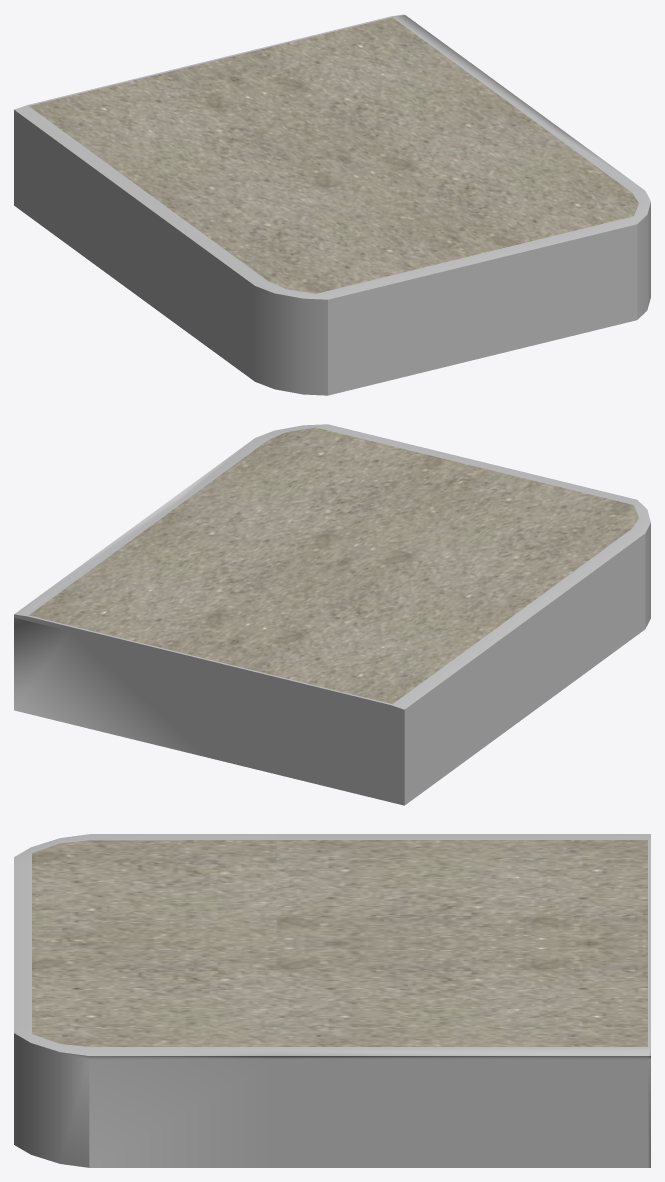
File: road_02_end.fbx
3 renders of one model, top to bottom at view 1: azimuth 30°, elevation 25°; view 2: azimuth 150°, elevation 25°; view 3: azimuth 270°, elevation 25°, orthographic. The views are drawn at different scales.
Parts seen in each view (by area): view 1: road_02_cv_end; view 2: road_02_cv_end; view 3: road_02_cv_end.
Boxes of the visible parts, bbox=[...] form: road_02_cv_end: bbox=[14, 14, 650, 395]; road_02_cv_end: bbox=[14, 424, 650, 805]; road_02_cv_end: bbox=[14, 834, 650, 1167].
Bounding box in the file's own units: 8.42 × 2 × 10.21.
